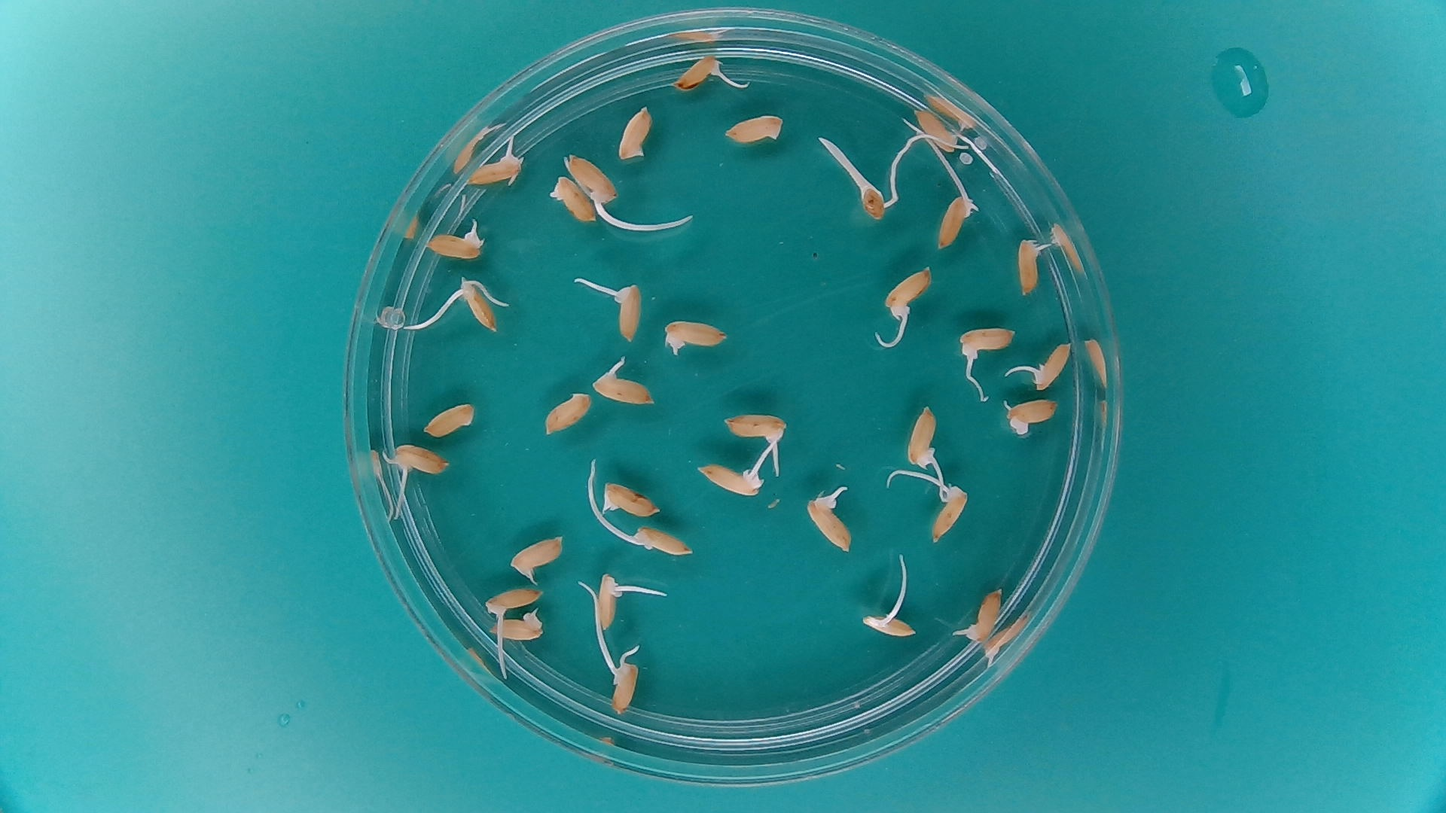no: (912, 103, 970, 157), (546, 174, 599, 226), (599, 480, 664, 519), (721, 109, 786, 146), (542, 389, 593, 436), (615, 102, 654, 163), (419, 400, 478, 439), (1002, 396, 1060, 433)
yes: (952, 585, 1007, 645), (880, 263, 936, 321), (507, 532, 568, 585), (719, 410, 792, 454), (804, 494, 854, 556), (693, 457, 767, 498), (932, 187, 980, 250), (660, 316, 731, 358), (564, 155, 623, 204), (602, 278, 645, 344), (927, 478, 970, 544), (1027, 336, 1075, 394), (457, 276, 503, 333), (423, 220, 487, 260), (627, 522, 695, 559), (904, 401, 940, 470), (386, 442, 453, 479), (853, 175, 904, 223), (592, 367, 654, 406), (1014, 235, 1051, 300), (956, 324, 1017, 363), (465, 146, 523, 186), (859, 607, 923, 640), (670, 50, 722, 90), (608, 656, 642, 717), (593, 570, 627, 630), (489, 607, 547, 642), (484, 586, 546, 614)
